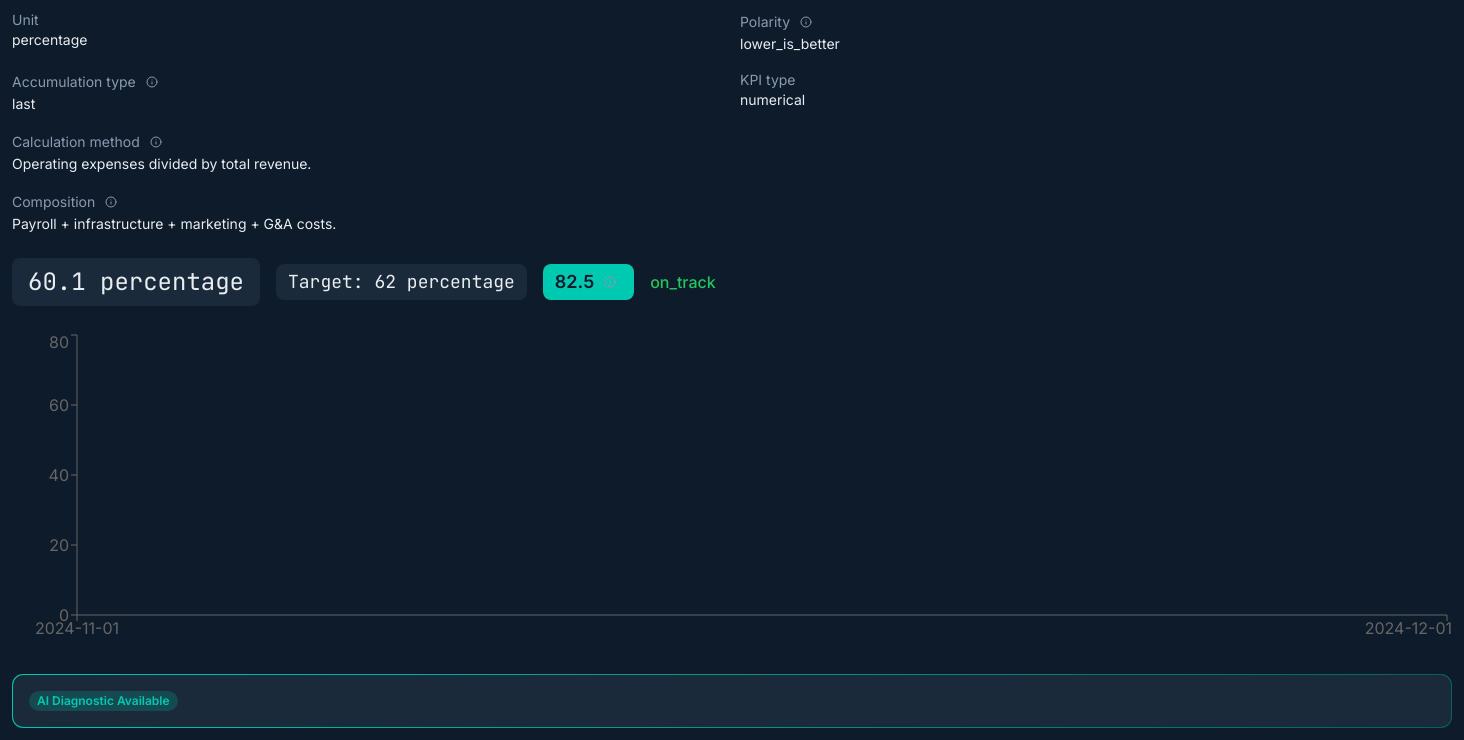
Test: IndicatorDetail › expands the diagnostic card to show pattern, confidence, and description
The image size is (1464, 740).
What coordinates should you click on to do the following:
click the button "AI Diagnostic Available"
I would click on:
 (103, 701)
Its box is [29, 691, 1435, 711].
(page scrolled)
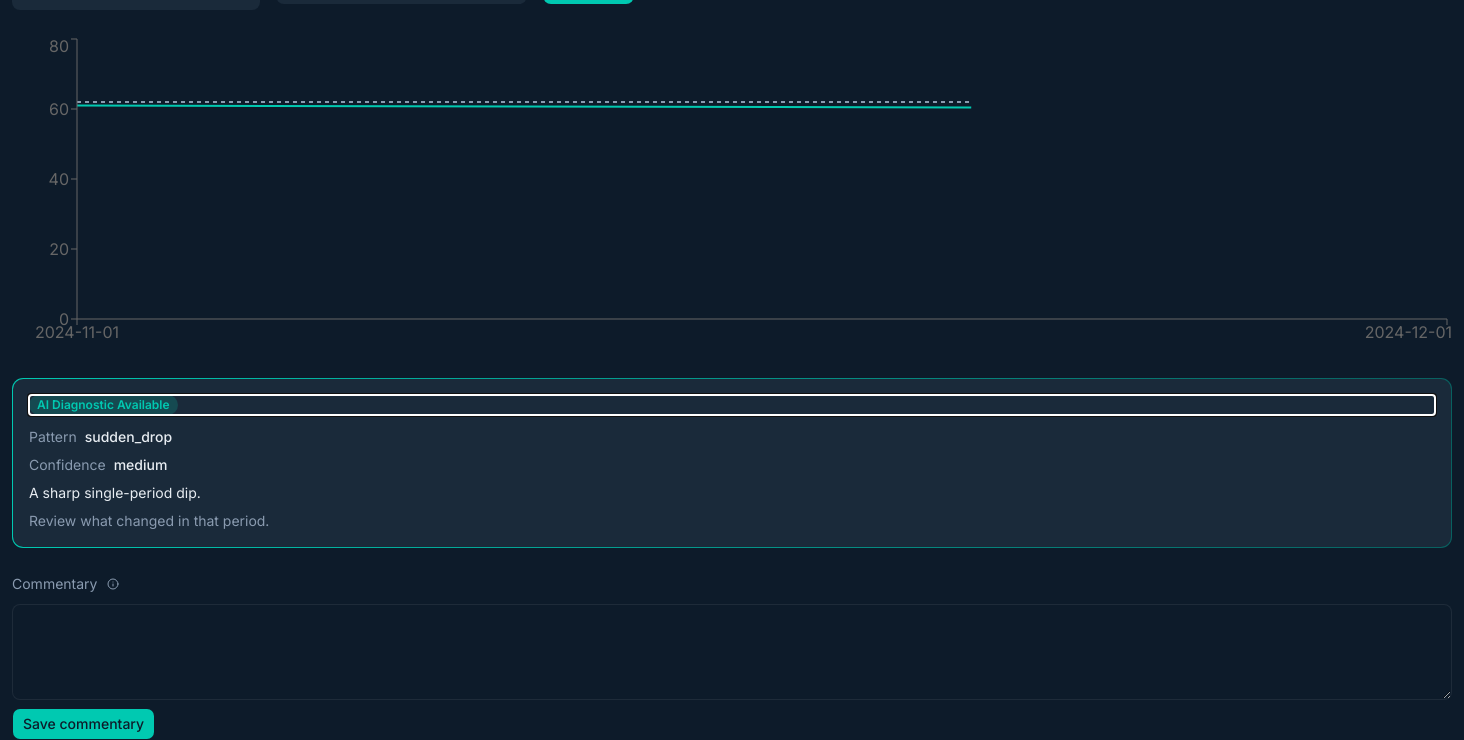
Now the text "sudden_drop" is shown, box [85, 427, 172, 447]
Now the text "medium" is shown, box [114, 455, 167, 475]
Now the text "A sharp single-period dip." is shown, box [29, 484, 201, 501]
